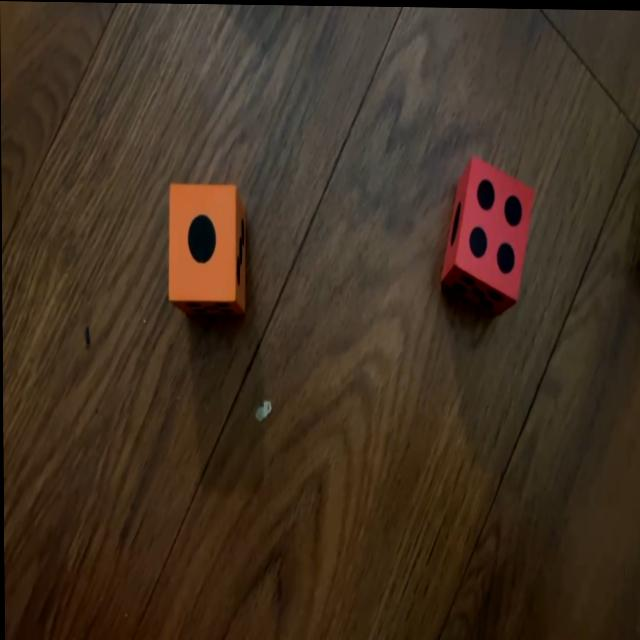red_block: (440, 156, 535, 313)
